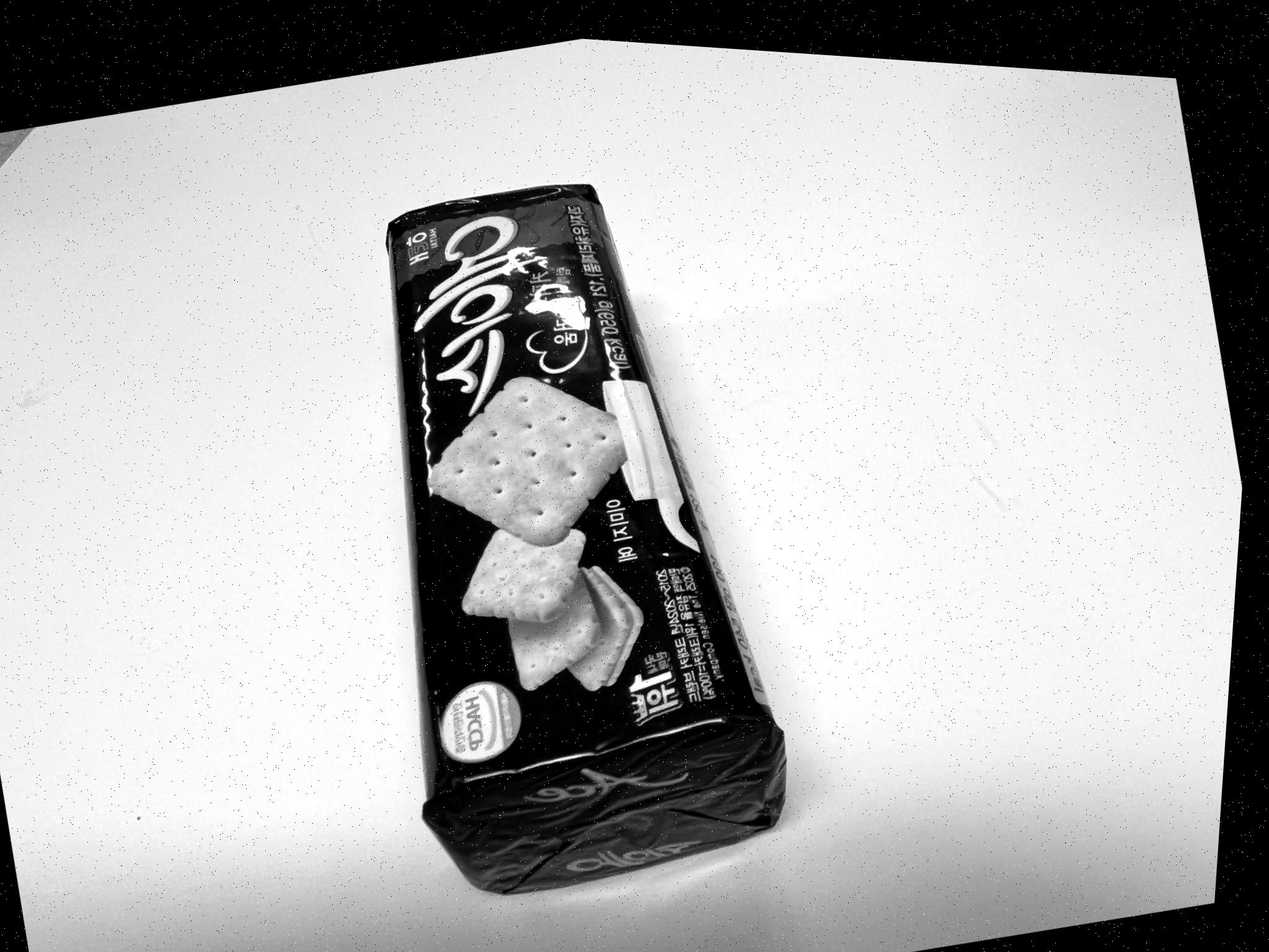cracker_ace: (381, 178, 791, 897)
